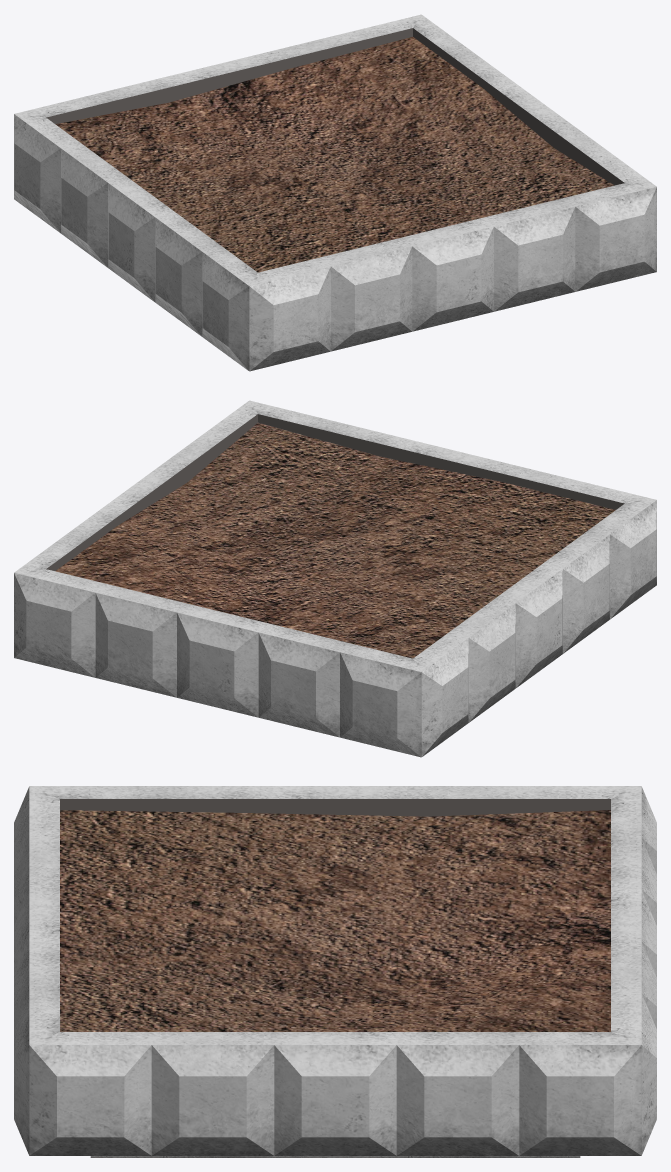
File: flower_bed.glb
3 renders of one model, top to bottom at view 1: azimuth 30°, elevation 25°; view 2: azimuth 150°, elevation 25°; view 3: azimuth 270°, elevation 25°, orthographic. The views are drawn at different scales.
Parts seen in each view (by area): view 1: flowerbed; view 2: flowerbed; view 3: flowerbed.
Part boxes in pixels (<box>): flowerbed: <box>14,14,656,371</box>; flowerbed: <box>14,400,656,757</box>; flowerbed: <box>14,786,656,1157</box>.
Size of the model in its own units: 4.2 by 1 by 4.2.
Materials: 1 (1 with a texture image).
